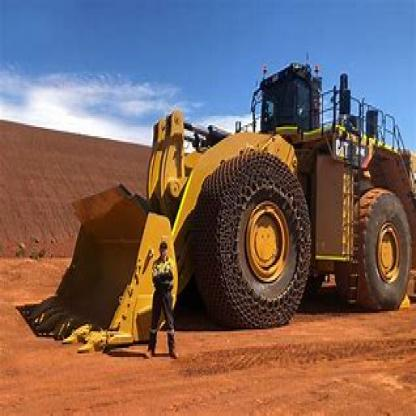bull_dozer/loader/grader: (53, 48, 414, 379)
